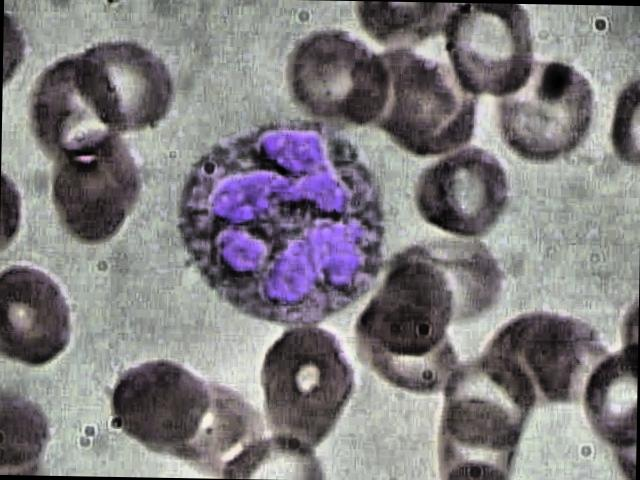RBC: (41, 128, 149, 251), (256, 320, 364, 443), (489, 56, 604, 167), (75, 26, 185, 132), (406, 140, 515, 238), (281, 25, 390, 123), (433, 3, 542, 100), (103, 356, 207, 447), (142, 369, 246, 460), (364, 255, 458, 352), (0, 261, 78, 366)
WBC: (168, 120, 396, 328)
